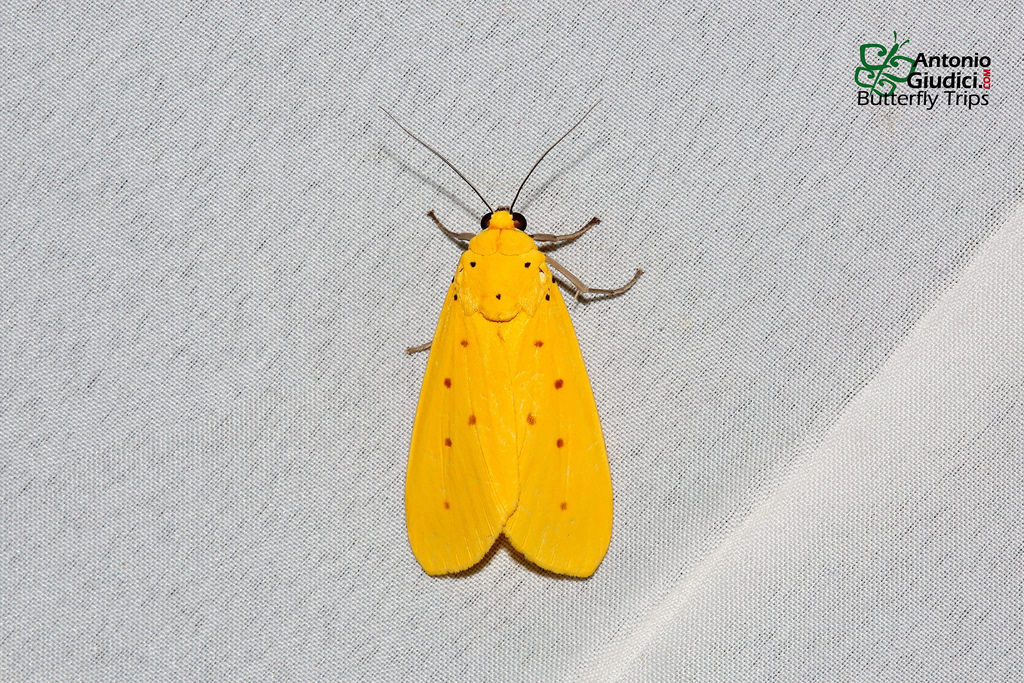Agape chloropyga: (370, 94, 657, 585)
moth: (372, 96, 659, 587)
